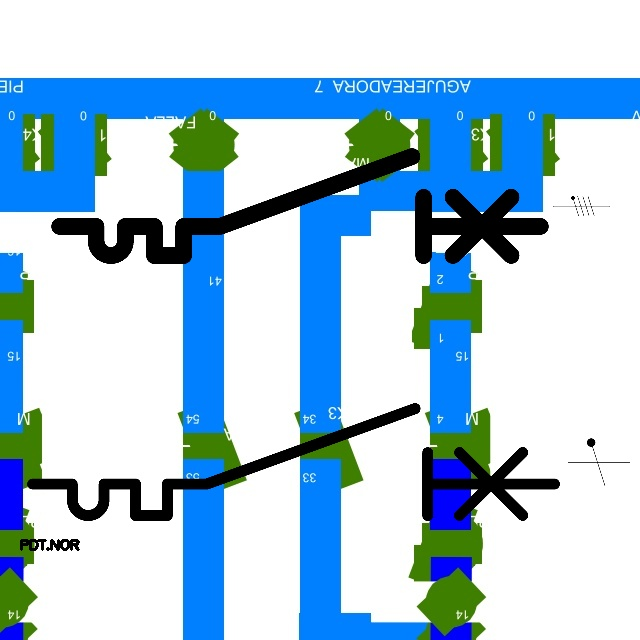interruptor_termomagnetico: (19, 395, 568, 529), (47, 144, 553, 268)
